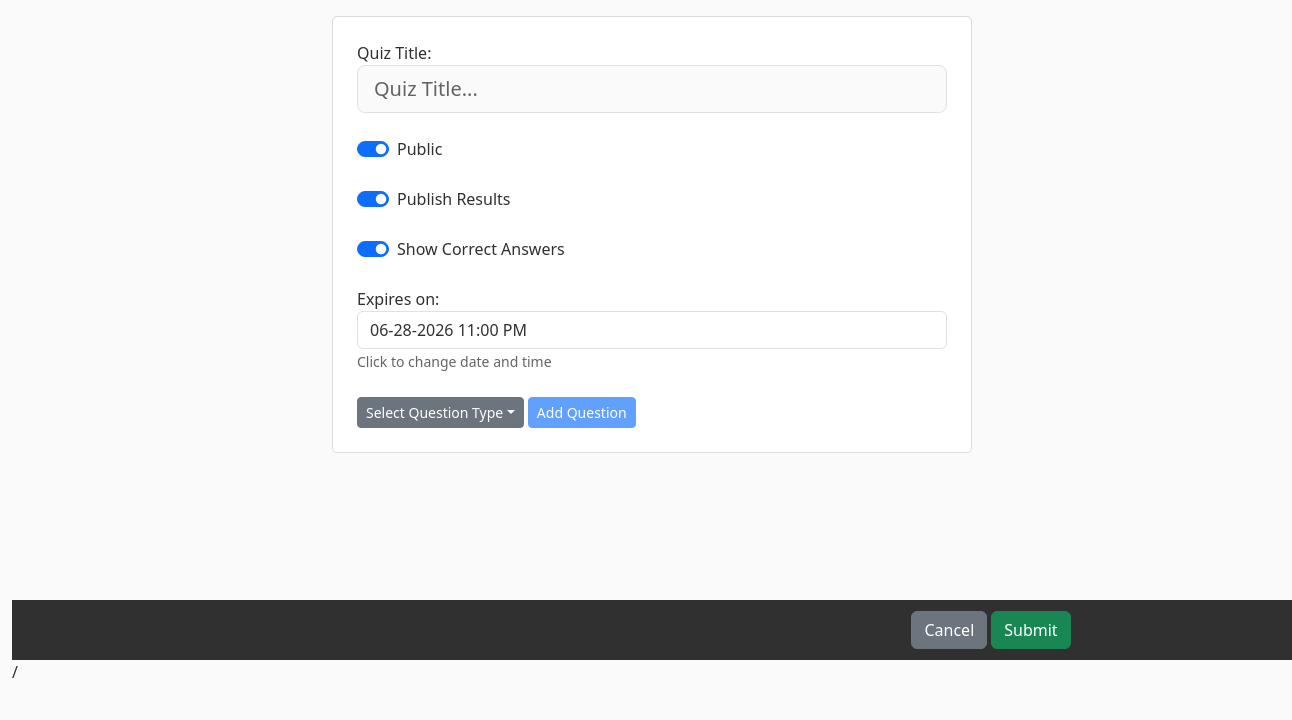
it: QuizCreator › shows validation errors if the submission failed
What coordinates should you click on to do the following:
click the button "Submit"
I would click on:
 (1031, 630)
Its box is left=991, top=611, right=1071, bottom=649.
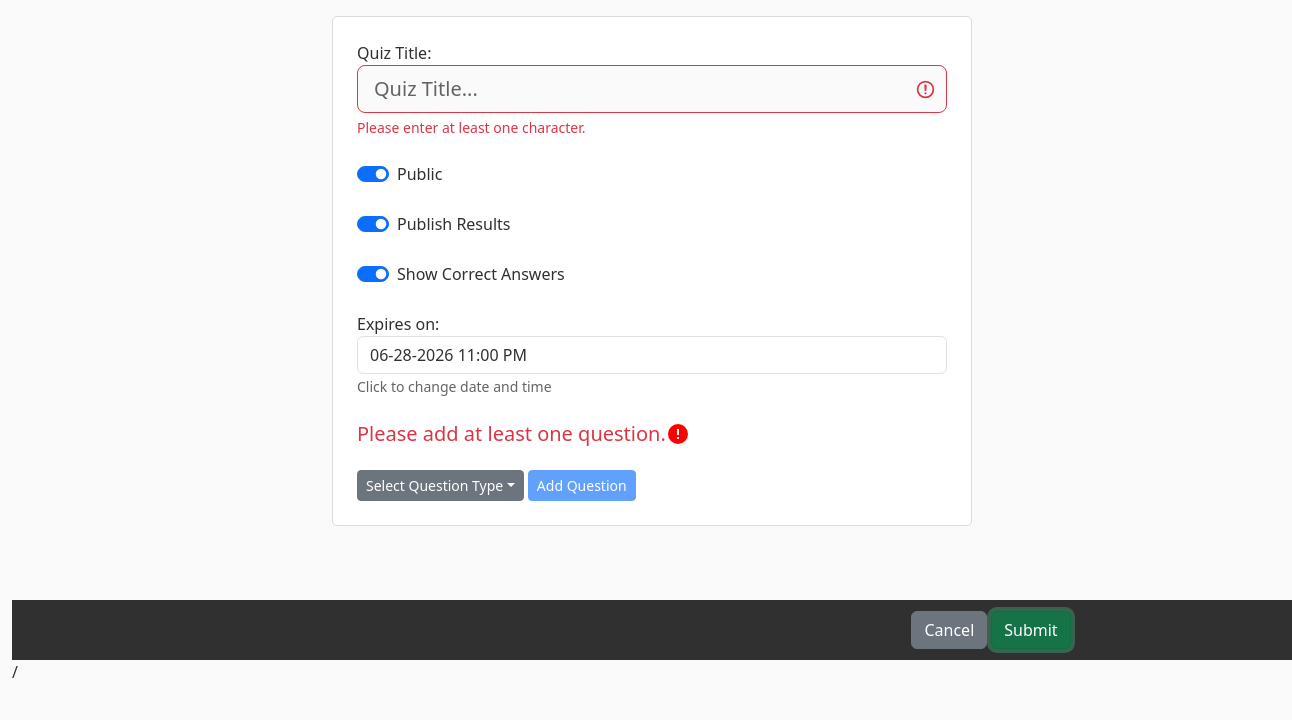
expect the text "Please enter at least one character." is shown: met, box left=357, top=118, right=586, bottom=137
